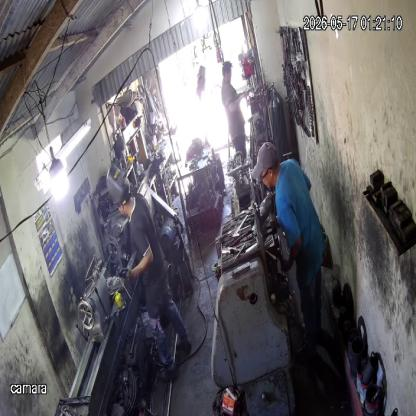lentes: (257, 168, 269, 185)
